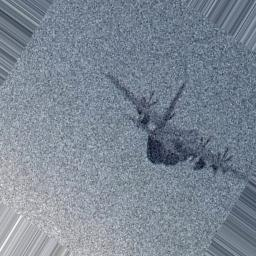Airplane: (105, 64, 245, 181)
